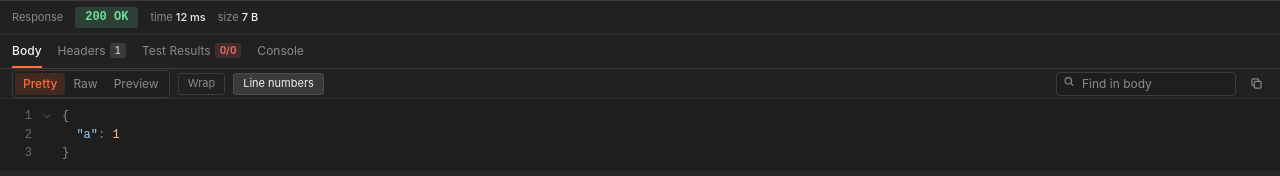
Test: ResponsePane › reads a run that died before its tests as a failure, not a pass
Expected: the text with class "count" reads "0/0", [220,44,236,56]
Click the tab "Test Results 0/0" at (192, 52), box [142,35,241,68]
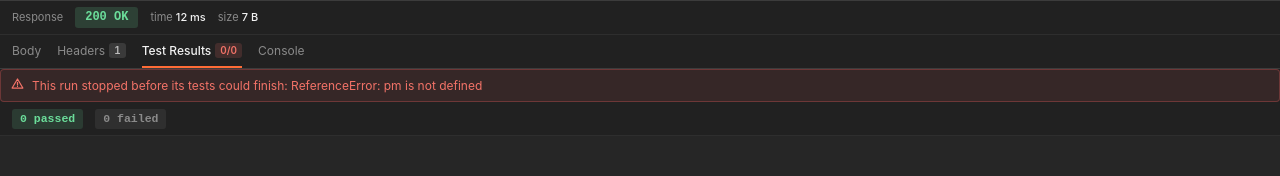
Expected: the text "ReferenceError: pm is not defined" is shown, [291,78,482,93]
